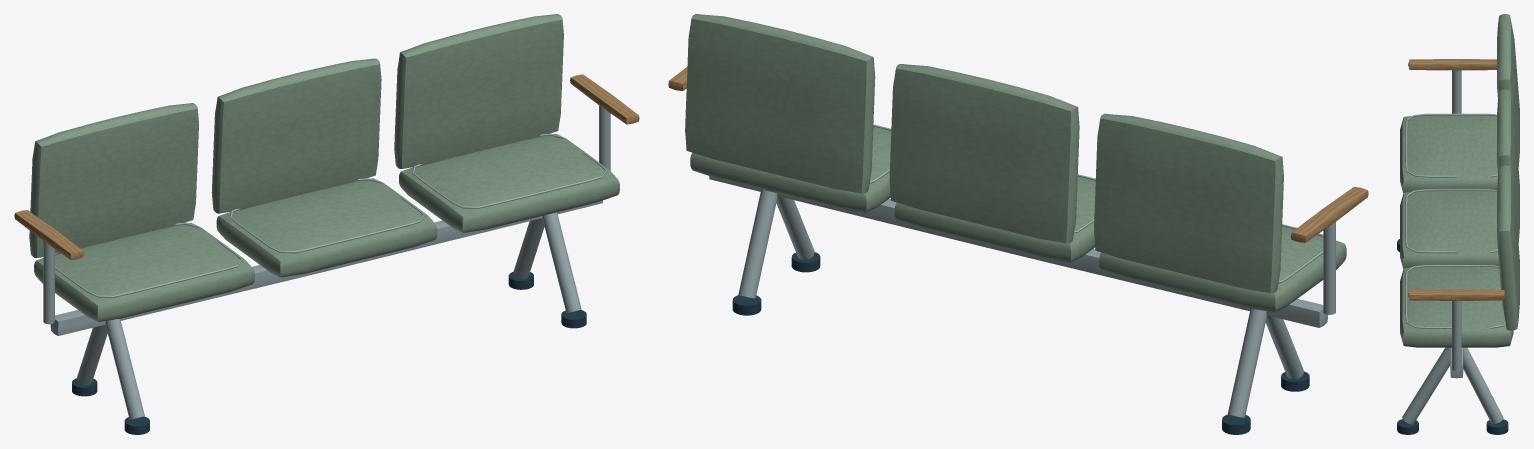
File: waiting-bench.glb
The picture shows the model from 3 angles, left to right: view 1: azimuth 30°, elevation 25°; view 2: azimuth 150°, elevation 25°; view 3: azimuth 270°, elevation 25°; orthographic projection. The views are drawn at different scales.
Visible parts, largest first — view 1: waiting-bench; view 2: waiting-bench; view 3: waiting-bench.
Boxes of the visible parts, x1=… form: waiting-bench: x1=14, y1=14, x2=639, y2=434; waiting-bench: x1=668, y1=14, x2=1368, y2=434; waiting-bench: x1=1397, y1=14, x2=1519, y2=434.
Size of the model in its own units: 2.06 by 0.9025 by 0.4522.
22 materials, 22 textured.
